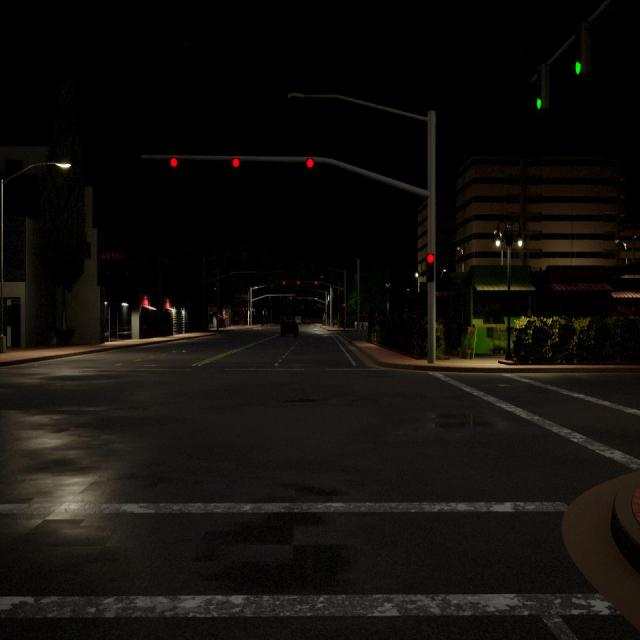Vehicle: (280, 319, 299, 338), (296, 316, 302, 325), (304, 318, 310, 325)
traffic_light: (574, 25, 589, 75), (536, 64, 550, 110), (426, 253, 434, 282), (232, 157, 240, 182), (170, 156, 178, 180), (306, 158, 314, 181), (343, 303, 345, 311), (308, 297, 311, 300), (297, 281, 300, 284), (315, 281, 317, 285), (283, 281, 285, 284), (290, 297, 292, 300), (298, 297, 300, 300)
